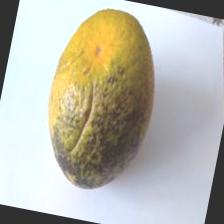Orange Rotten: (27, 0, 177, 202)
